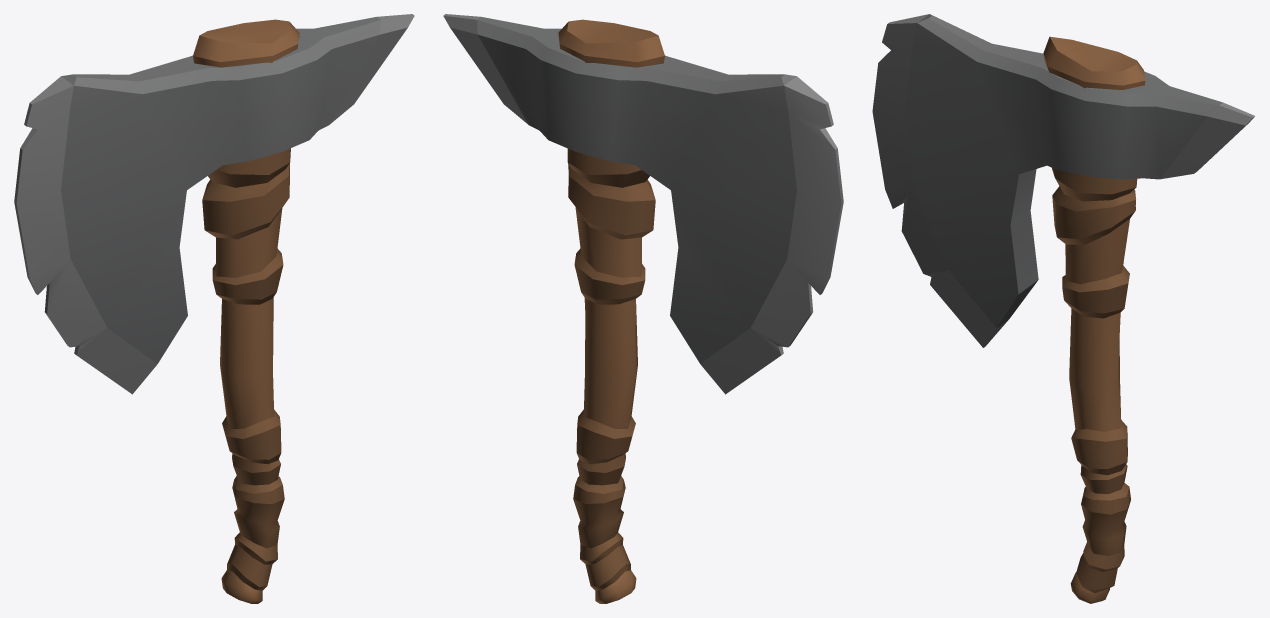
File: Axe_1.fbx
3 renders of one model, left to right at view 1: azimuth 30°, elevation 25°; view 2: azimuth 150°, elevation 25°; view 3: azimuth 330°, elevation 25°, orthographic. The views are drawn at different scales.
Parts seen in each view (by area): view 1: Axe_1; view 2: Axe_1; view 3: Axe_1.
Part boxes in pixels (x1,y1,x2,y2): Axe_1: (14, 14, 414, 603); Axe_1: (443, 14, 843, 603); Axe_1: (872, 14, 1254, 603).
Size of the model in its own units: 64.93 by 89.9 by 13.03.
